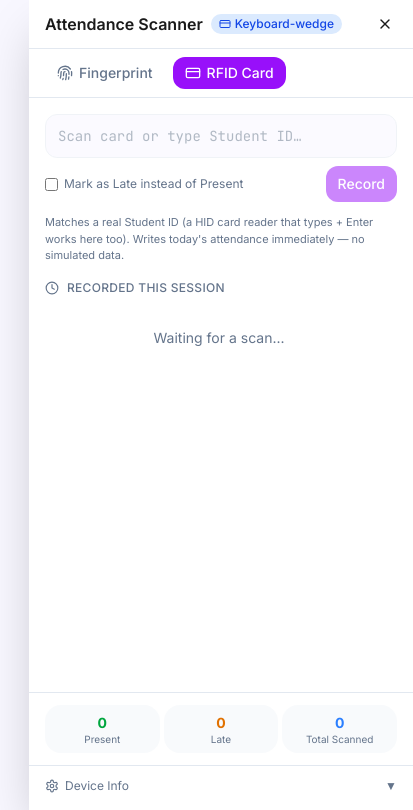
Test: BiometricAttendance › expands and collapses the device info panel
Check: the text "No physical scanner is connected" is not shown
Click the button "Device Info ▼": (97, 786) top-left (45, 778), bottom-right (397, 794)
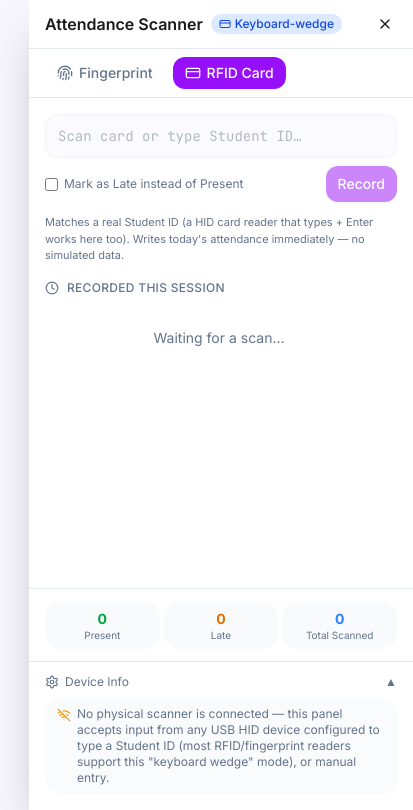
Check: the text "No physical scanner is connected" is shown, box top-left (77, 706), bottom-right (380, 785)
Click the button "Device Info ▲": (97, 682) top-left (45, 674), bottom-right (397, 690)
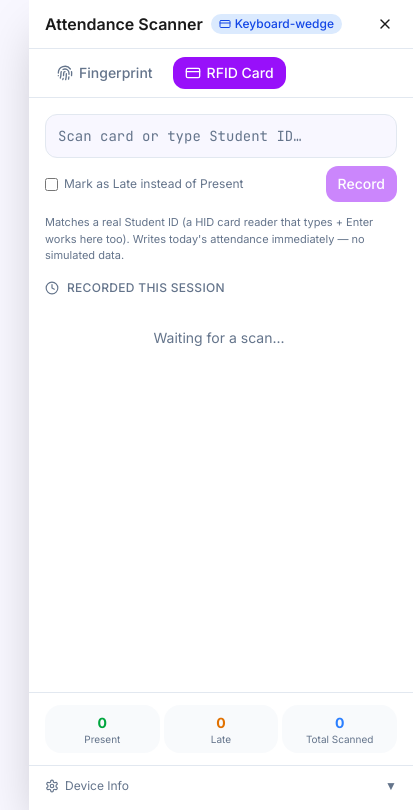
Check: the text "No physical scanner is connected" is gone
